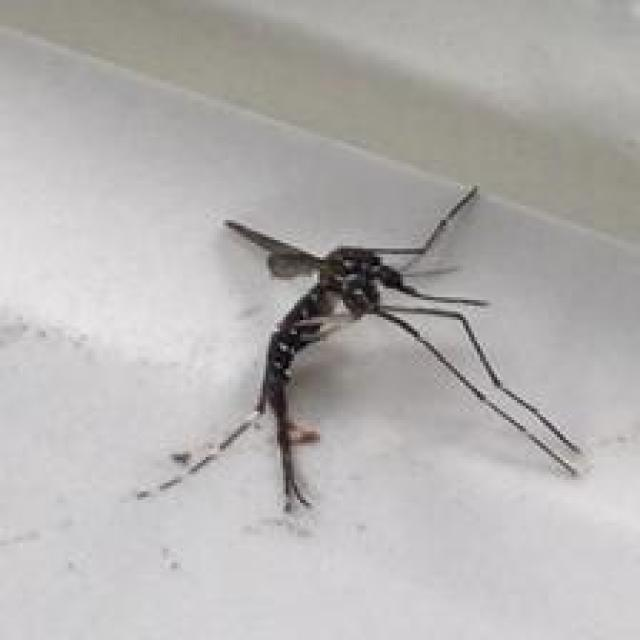Aedes albopictus: (133, 183, 593, 514)
